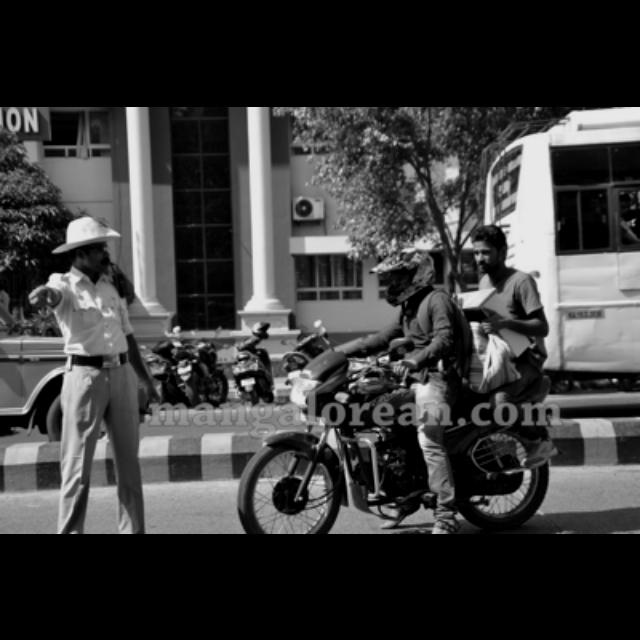With Helmet: (366, 244, 440, 306)
Without Helmet: (469, 222, 507, 276)
